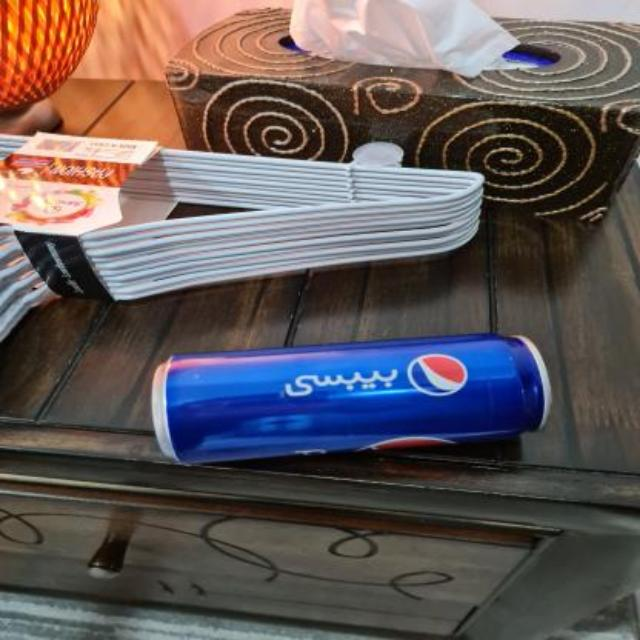cardboard paper: (289, 0, 545, 75)
metal: (152, 334, 551, 462)
